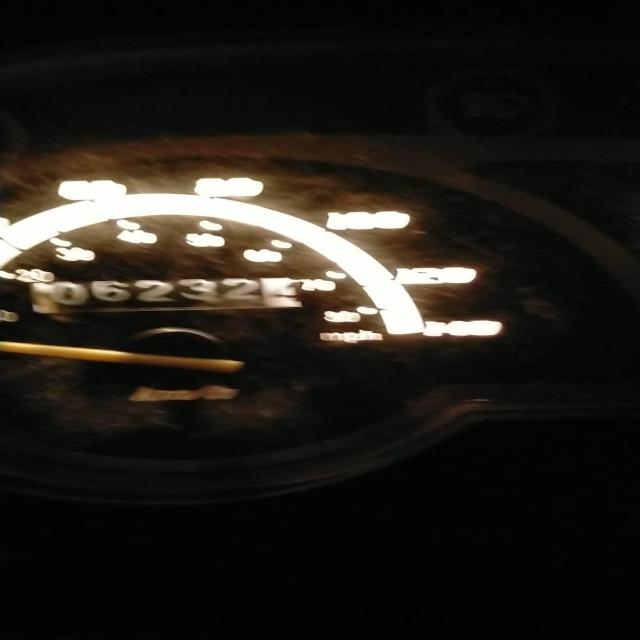odometer: (32, 274, 308, 318)
